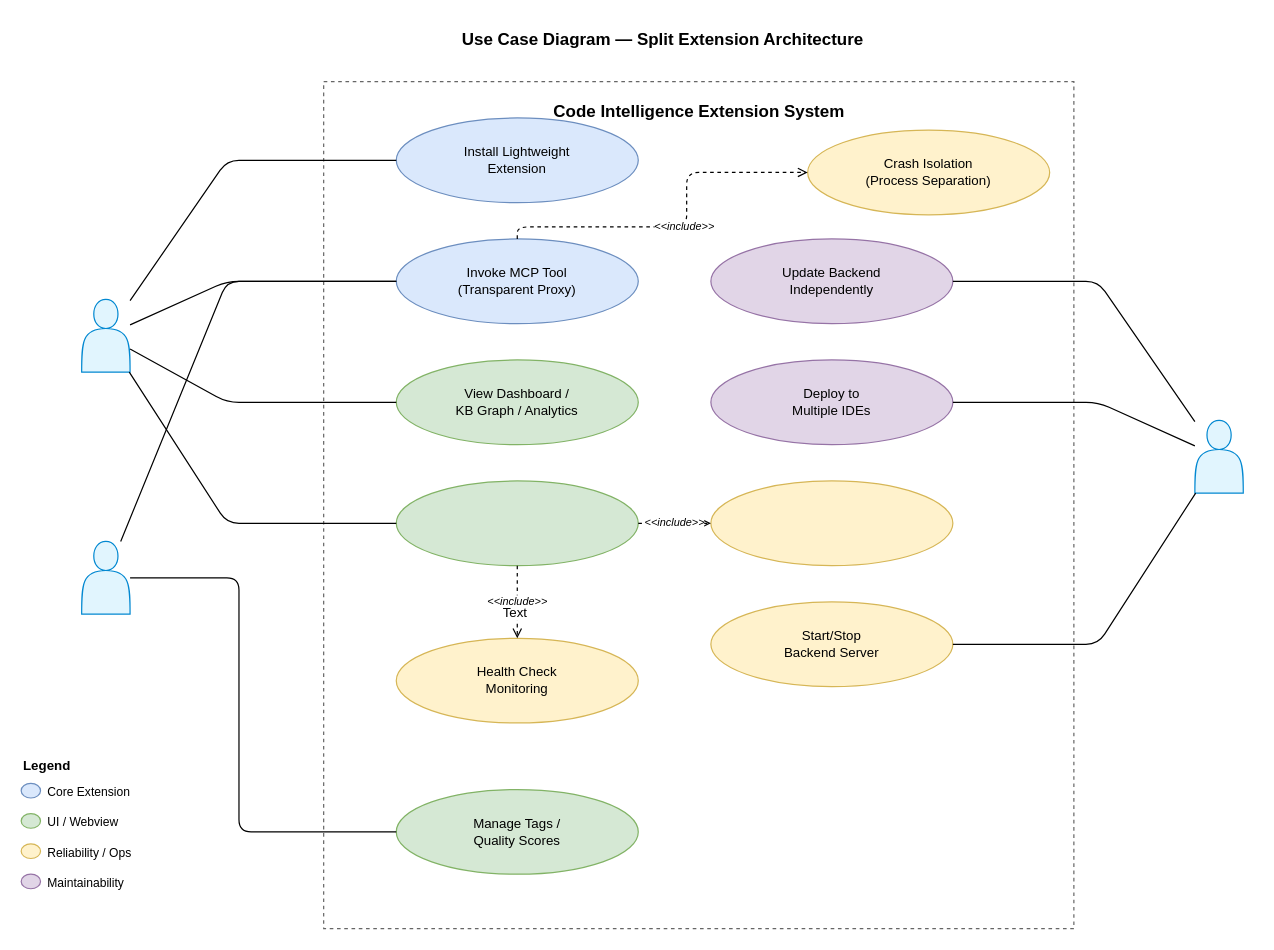
This 1274x950 diagram has some shape labels left out. Each missing label, with the centre of its shape:
AI Agent: the point at 105,577
Auto-Reconnect to Backend: the point at 831,523
Developer: the point at 105,335
Monitor Connection Status: the point at 516,523
Platform Maintainer: the point at 1218,456
